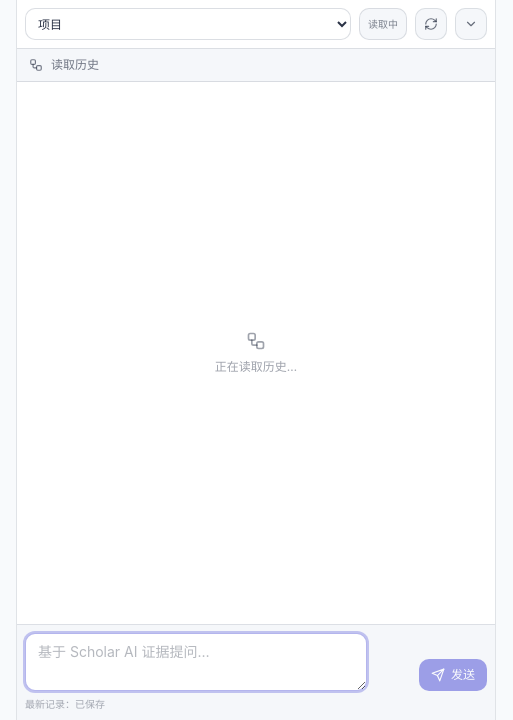
Test case: AgentSidebar › ignores a delayed receipt read from the previous project after switching projects
Select "Project B" in the dropdown named "Scholar AI 项目" at (188, 24), box [25,8,351,40]
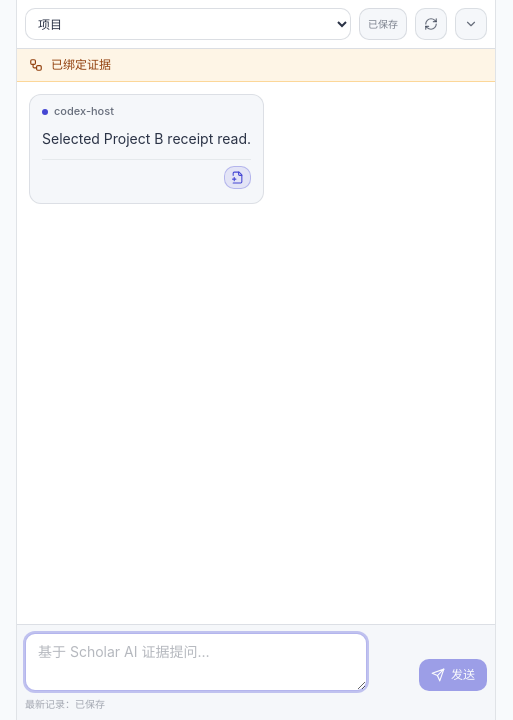
Result: the text "Selected Project B receipt read." is shown at [42,127,251,151]
